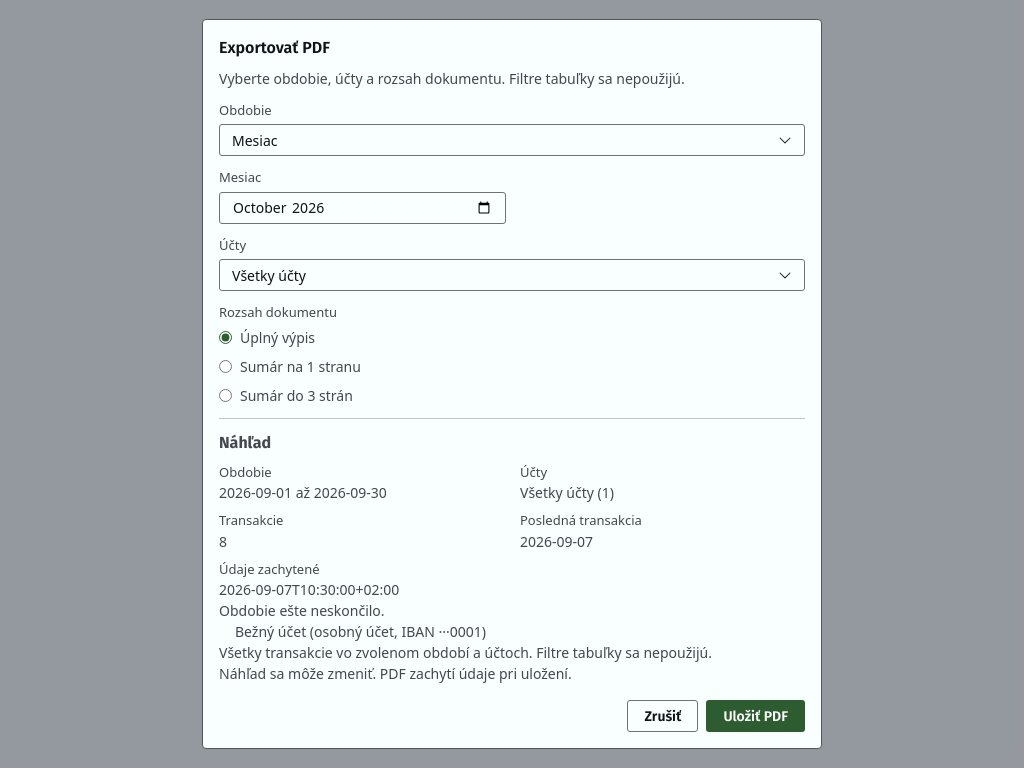
Scenario: ExportPdfDialog: document scope › selecting Sumár do 3 strán requests that preview and shows the page count
Expected: the heading "Náhľad" is shown, [219,433,271,452]
Click the radio button labelled "Sumár do 3 strán" at (226, 395), box [219,389,232,402]
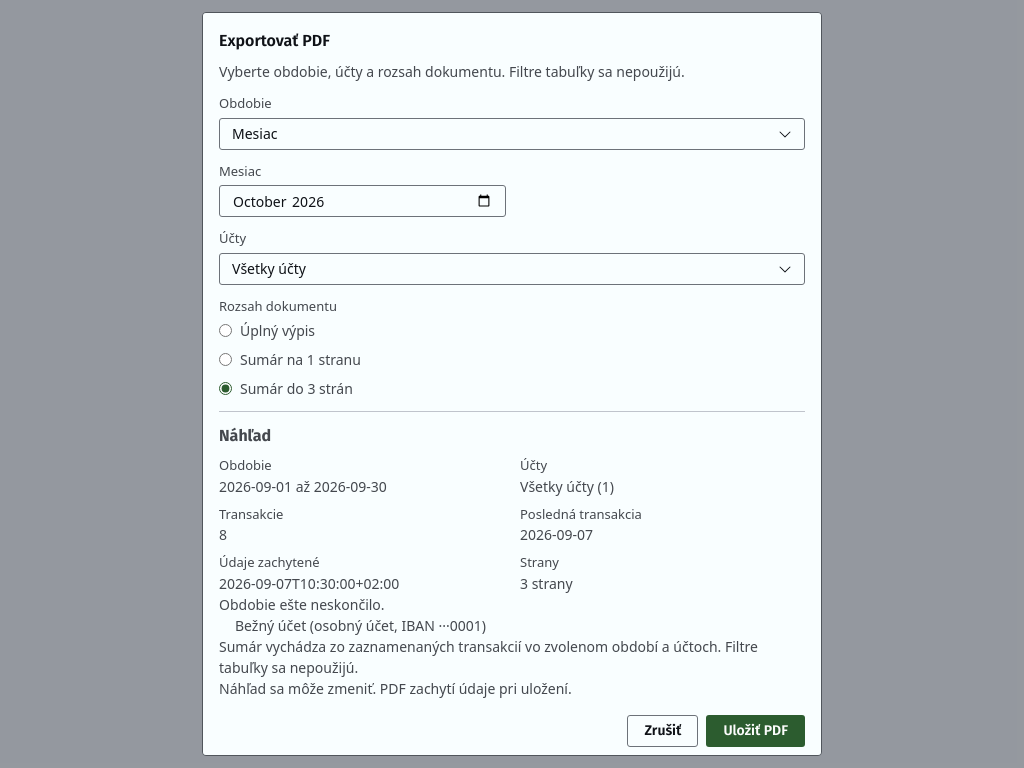
Expected: the radio button labelled "Sumár do 3 strán" is checked, [219,382,232,395]
Expected: the text "3 strany" is shown, [520,574,573,592]
